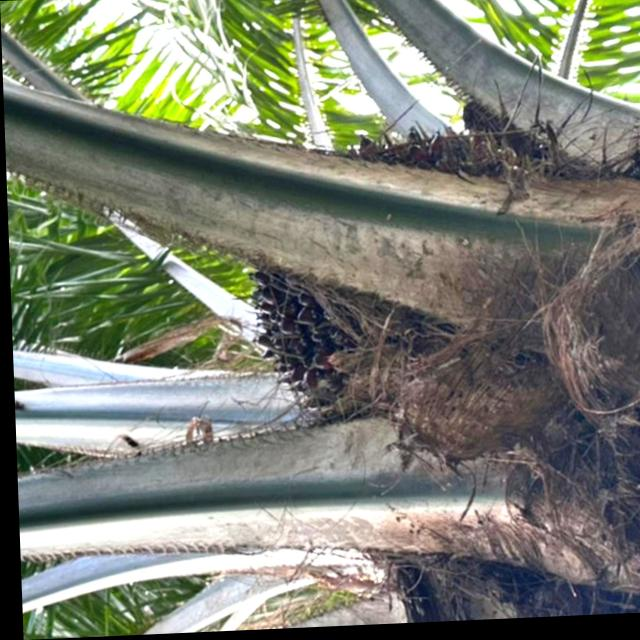ripe: (227, 254, 372, 429)
